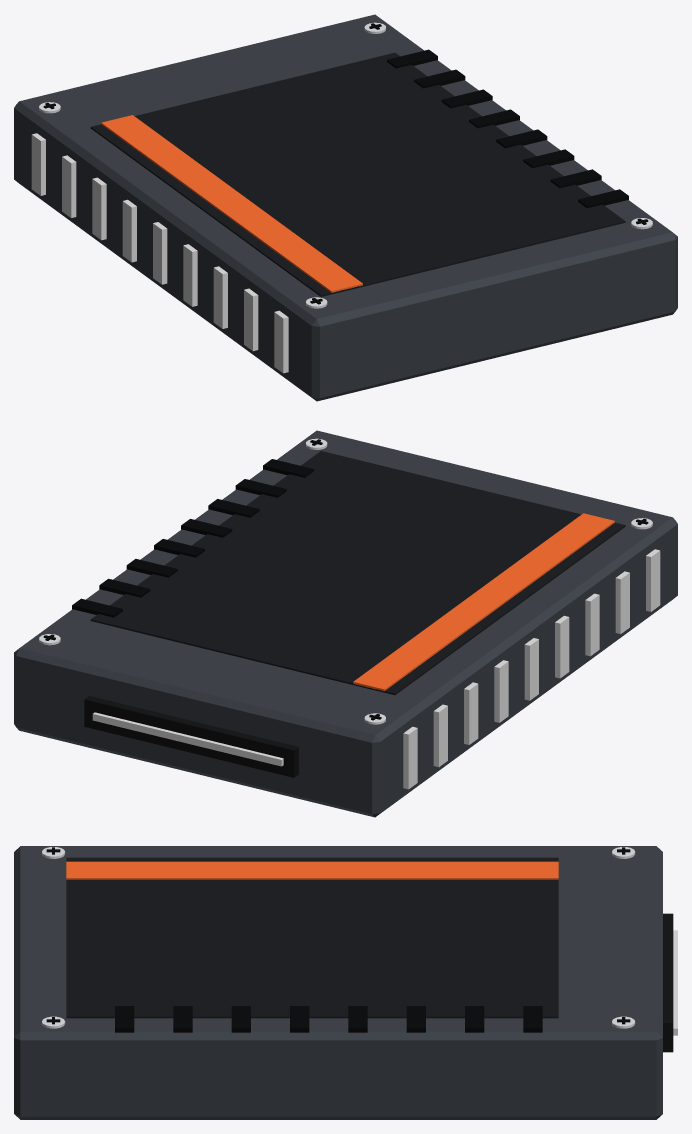
Rendered from hw_sto_nvme4_15tb.glb.
3 views of the same model, one above another, from view 1: azimuth 30°, elevation 25°; view 2: azimuth 150°, elevation 25°; view 3: azimuth 270°, elevation 25° (orthographic). The views are drawn at different scales.
Visible parts, largest first — view 1: Body; view 2: Body; view 3: Body.
Boxes of the visible parts, x1,y1,x2,y2 form: Body: [14, 14, 677, 401]; Body: [14, 430, 677, 817]; Body: [14, 846, 677, 1119].
Size of the model in its own units: 0.0708 by 0.0157 by 0.1025.
